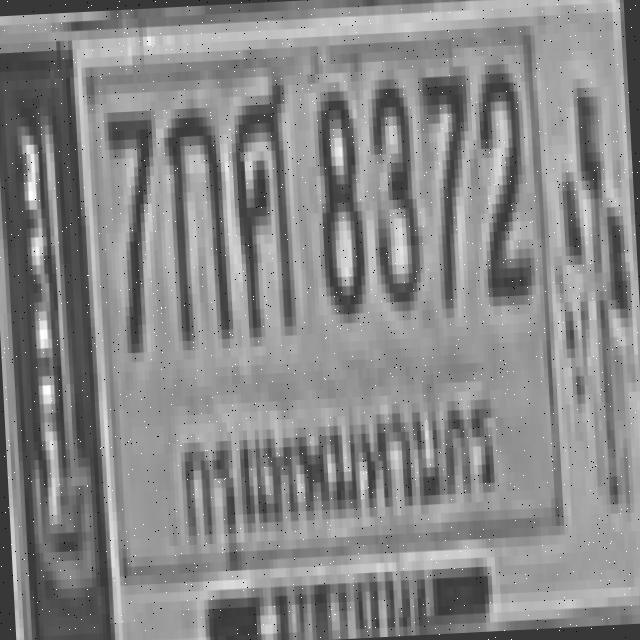10GorGai: (162, 98, 230, 342)
2: (472, 55, 528, 298)
3: (364, 69, 420, 303)
47SorSala: (226, 67, 294, 329)
7: (103, 102, 159, 344), (418, 62, 473, 304)
8: (311, 77, 363, 311)
Bangkok: (169, 381, 511, 552)
